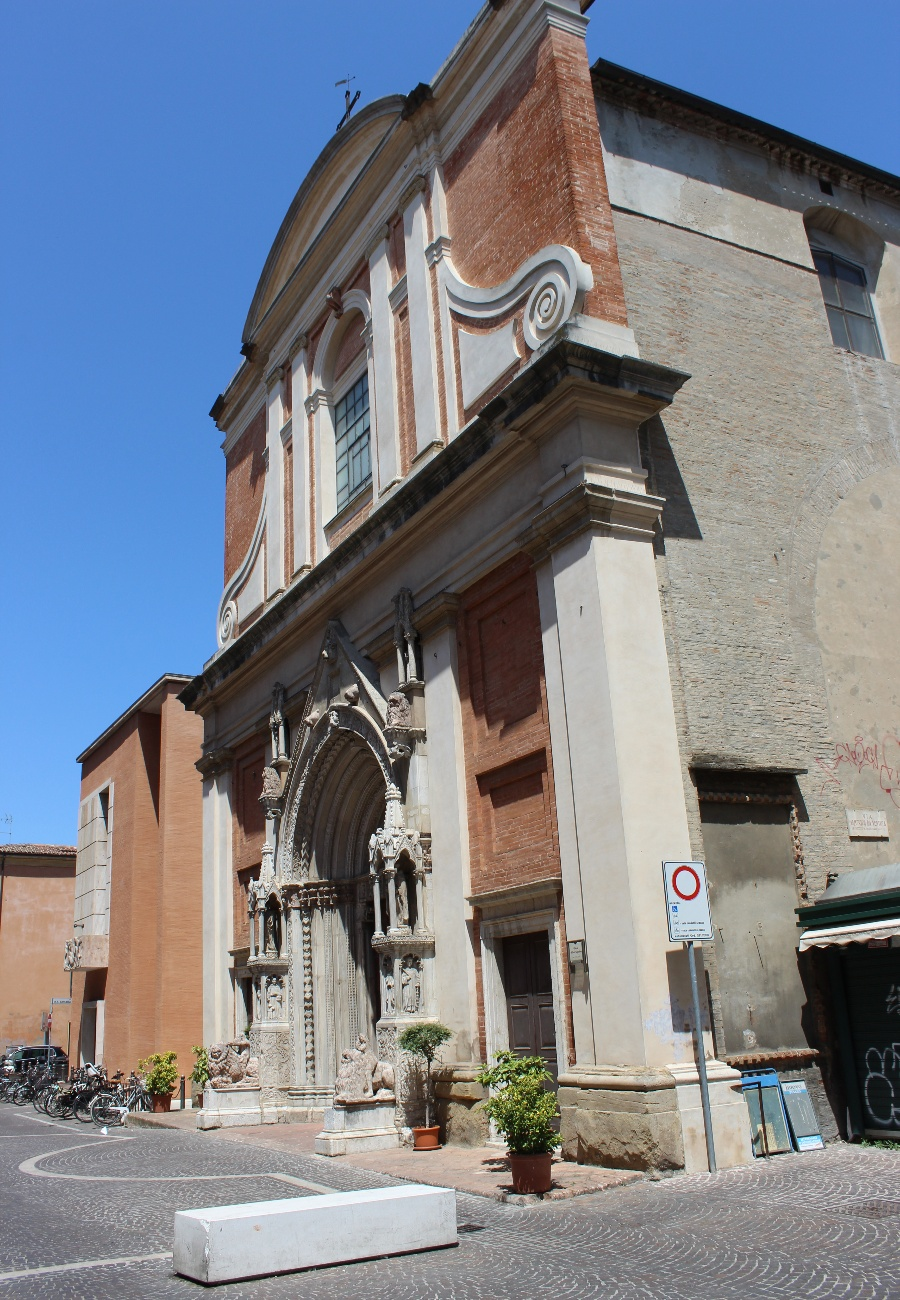Chiesa San Agostino: (197, 1, 672, 1169)
